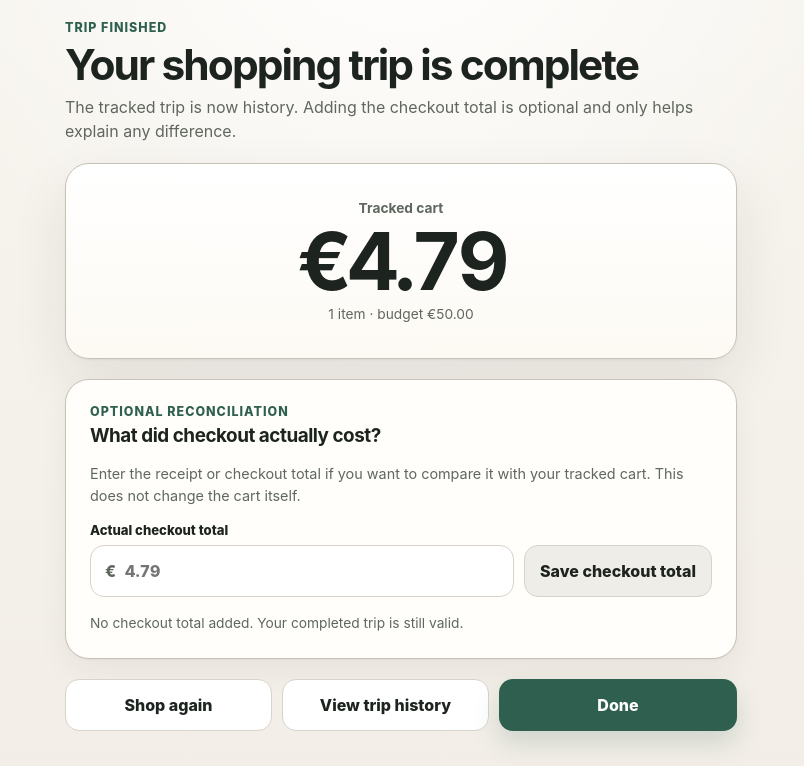
Test: CompletedSummaryScreen › persists actual checkout and derives the exact reconciliation difference
Type "5.00" into the field labelled "Actual checkout total".
click(311, 571); type("5.00")  # box top-left (123, 560), bottom-right (499, 582)
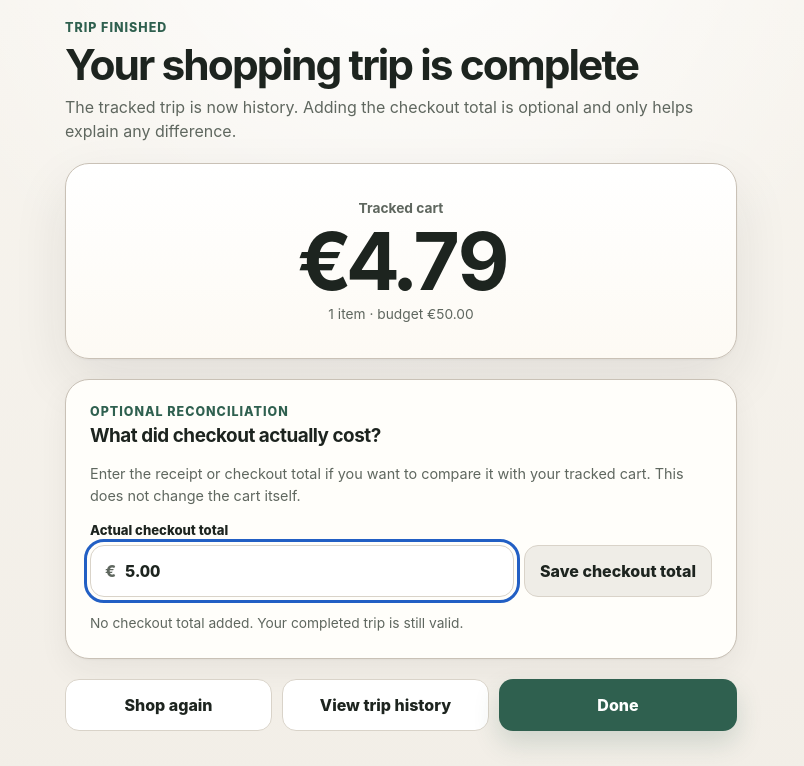
Click the button "Save checkout total".
click(618, 571)  # box top-left (524, 545), bottom-right (712, 597)
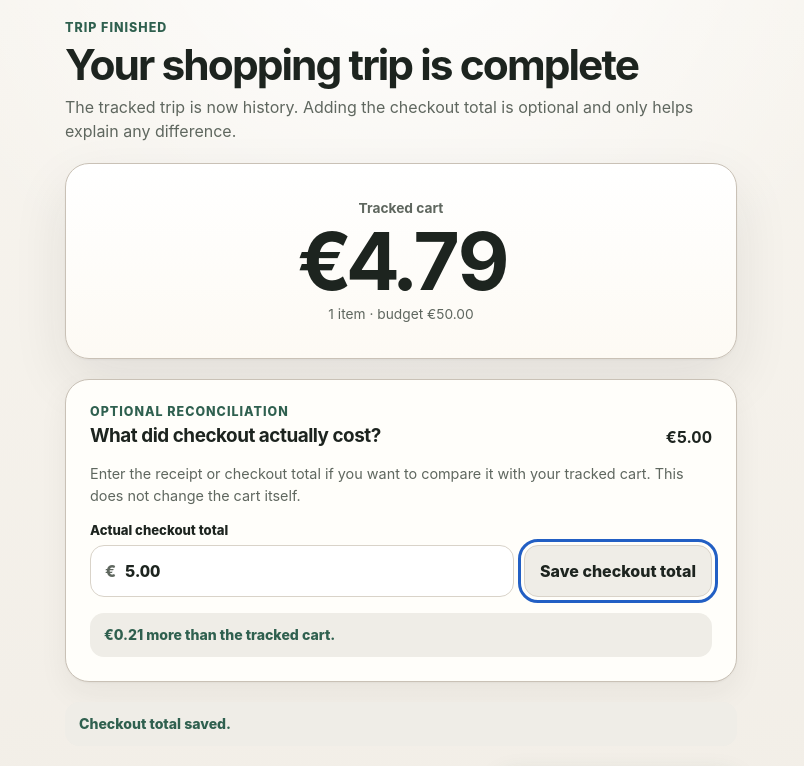
Result: the text "€0.21 more than the tracked cart." is shown at top-left (90, 613), bottom-right (712, 657)
Result: the text "Checkout total saved." is shown at top-left (65, 702), bottom-right (737, 746)
